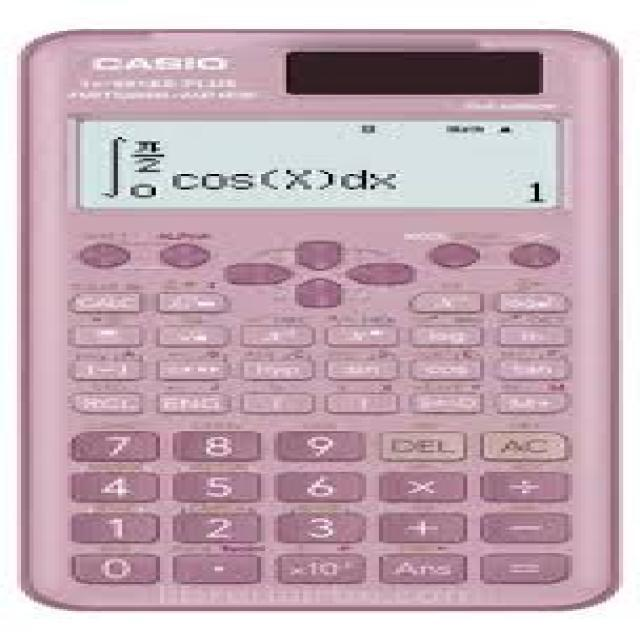Calculator: (27, 29, 636, 613)
